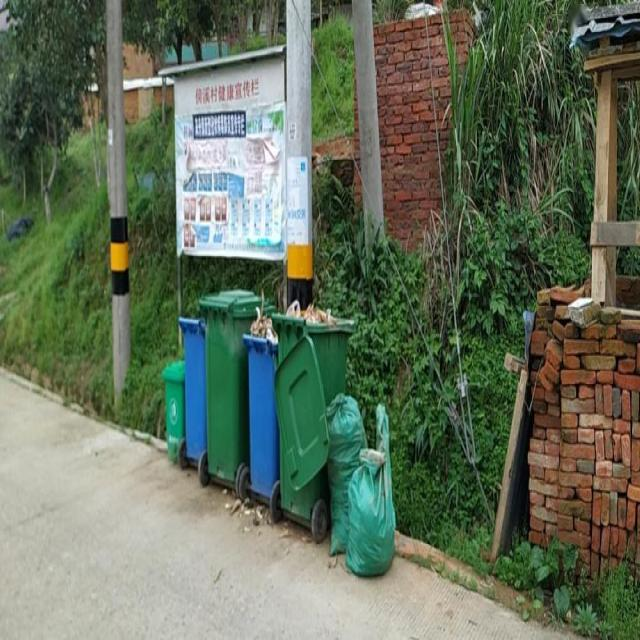garbage: (322, 393, 395, 576)
garbage_bin: (196, 286, 272, 482), (176, 315, 206, 458), (161, 357, 184, 461)
overflow: (271, 297, 354, 523), (242, 304, 278, 500)
